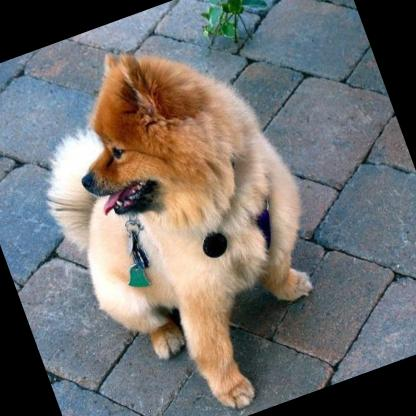Pomeranian: (2, 4, 363, 416)
